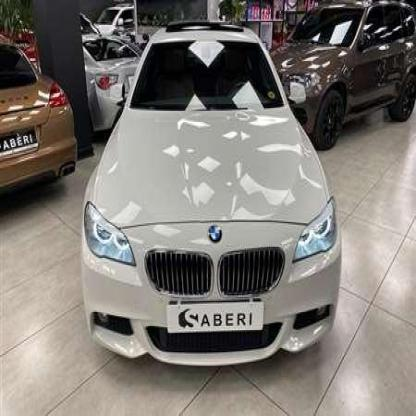Car: (83, 29, 343, 372), (0, 37, 83, 202), (61, 29, 145, 128)
